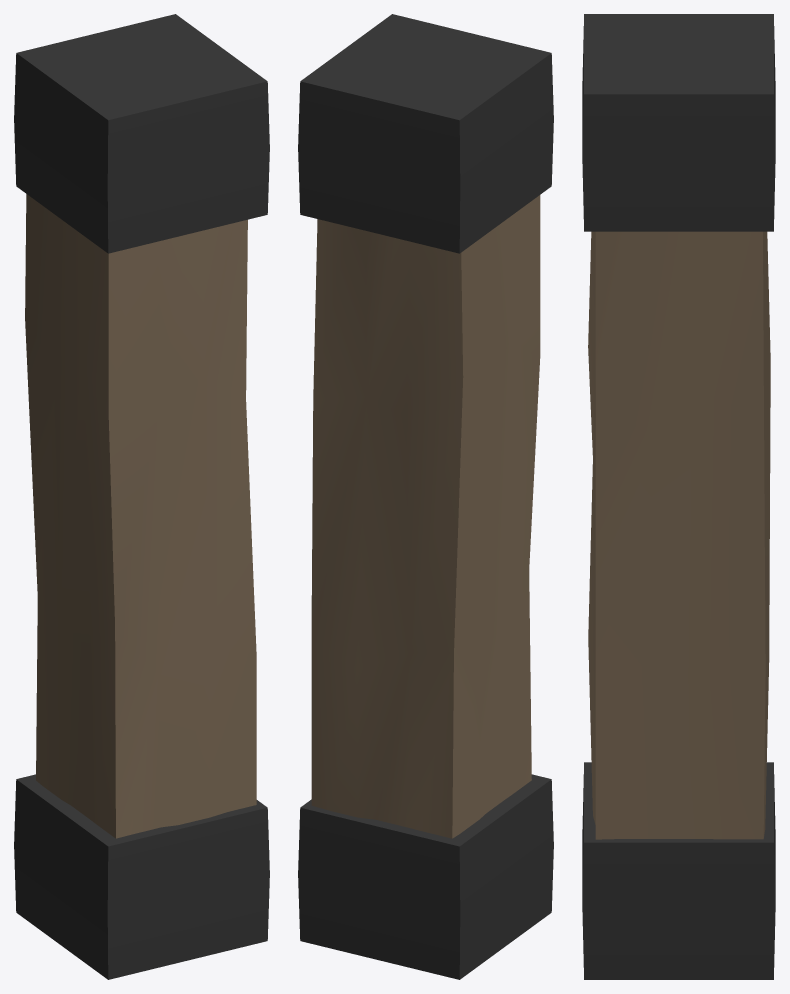
Rendered from Support.fbx.
3 renders of one model, left to right at view 1: azimuth 30°, elevation 25°; view 2: azimuth 150°, elevation 25°; view 3: azimuth 270°, elevation 25°, orthographic. The views are drawn at different scales.
Visible parts, largest first — view 1: Beam, SupportTop, SupportBottom; view 2: Beam, SupportTop, SupportBottom; view 3: Beam, SupportTop, SupportBottom.
Part boxes in pixels (bbox=[...]): Beam: bbox=[25, 194, 256, 838]; SupportTop: bbox=[14, 14, 269, 253]; SupportBottom: bbox=[14, 774, 269, 979]; Beam: bbox=[311, 195, 540, 838]; SupportTop: bbox=[298, 14, 553, 253]; SupportBottom: bbox=[298, 774, 553, 979]; Beam: bbox=[588, 231, 770, 839]; SupportTop: bbox=[582, 14, 775, 231]; SupportBottom: bbox=[582, 762, 775, 979].
Size of the model in its own units: 1.16 by 5.86 by 1.16.
